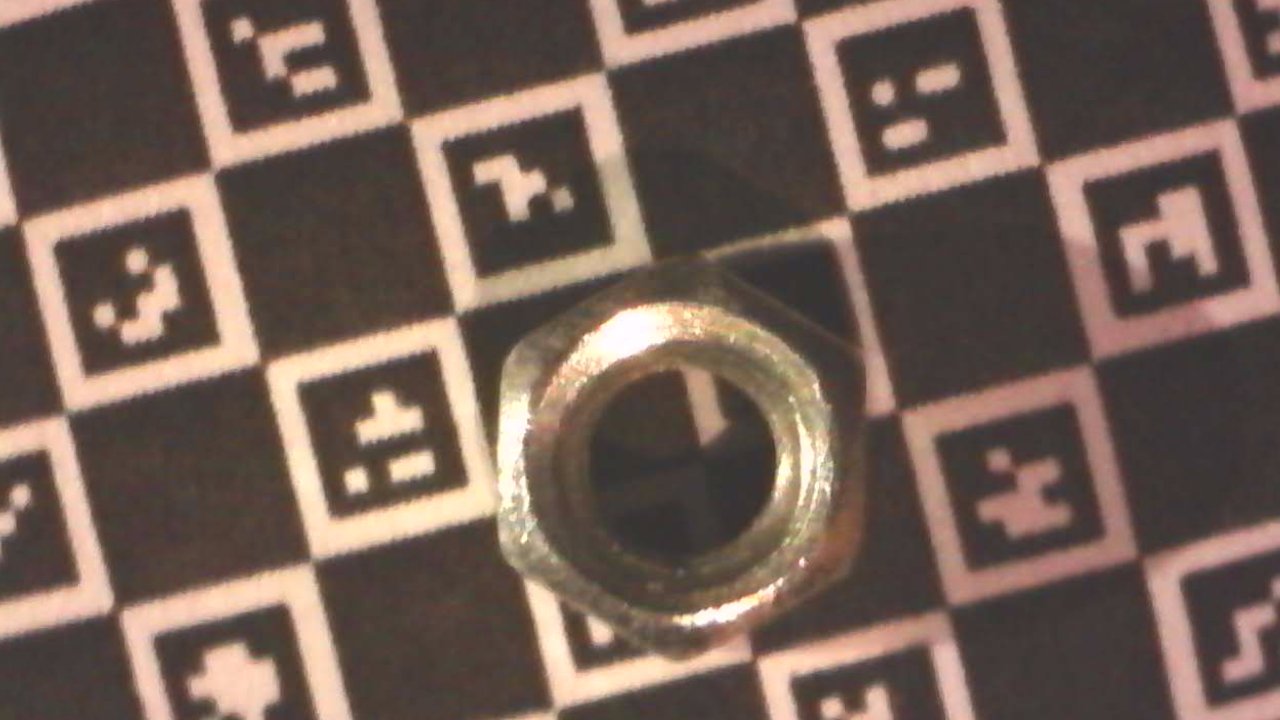Bolt: (500, 244, 868, 667)
